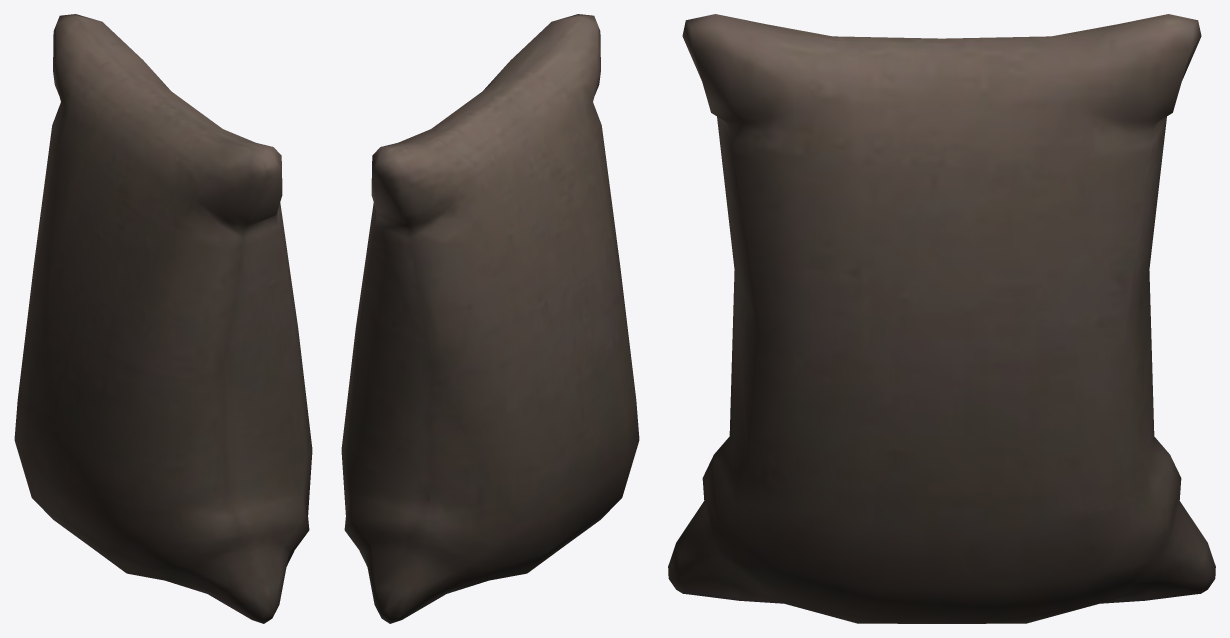
3 renders of one model, left to right at view 1: azimuth 30°, elevation 25°; view 2: azimuth 150°, elevation 25°; view 3: azimuth 270°, elevation 25°, orthographic. The views are drawn at different scales.
Parts seen in each view (by area): view 1: body0_model0_lod0_mesh0; view 2: body0_model0_lod0_mesh0; view 3: body0_model0_lod0_mesh0.
Boxes of the visible parts, left/top/right/bottom form: body0_model0_lod0_mesh0: left=14, top=14, right=312, bottom=623; body0_model0_lod0_mesh0: left=341, top=14, right=639, bottom=623; body0_model0_lod0_mesh0: left=668, top=14, right=1215, bottom=623.
Size of the model in its own units: 18.23 by 38.48 by 32.66.
Materials: 1 (1 with a texture image).
